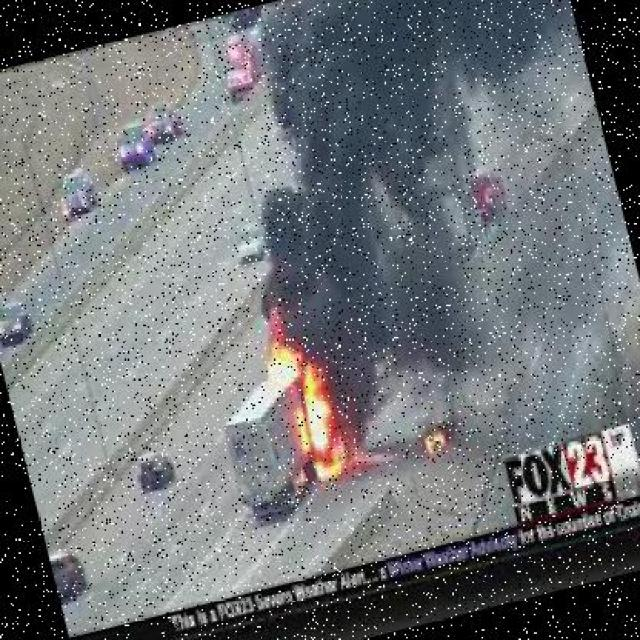fire: (251, 282, 403, 503), (406, 410, 457, 464)
